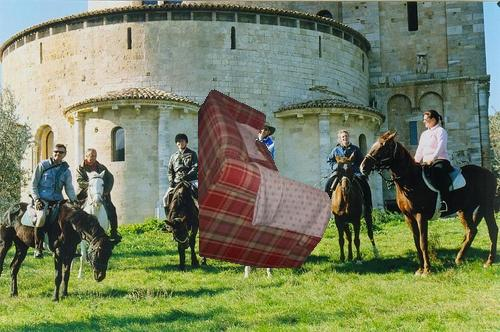tampered: (199, 90, 331, 268)
